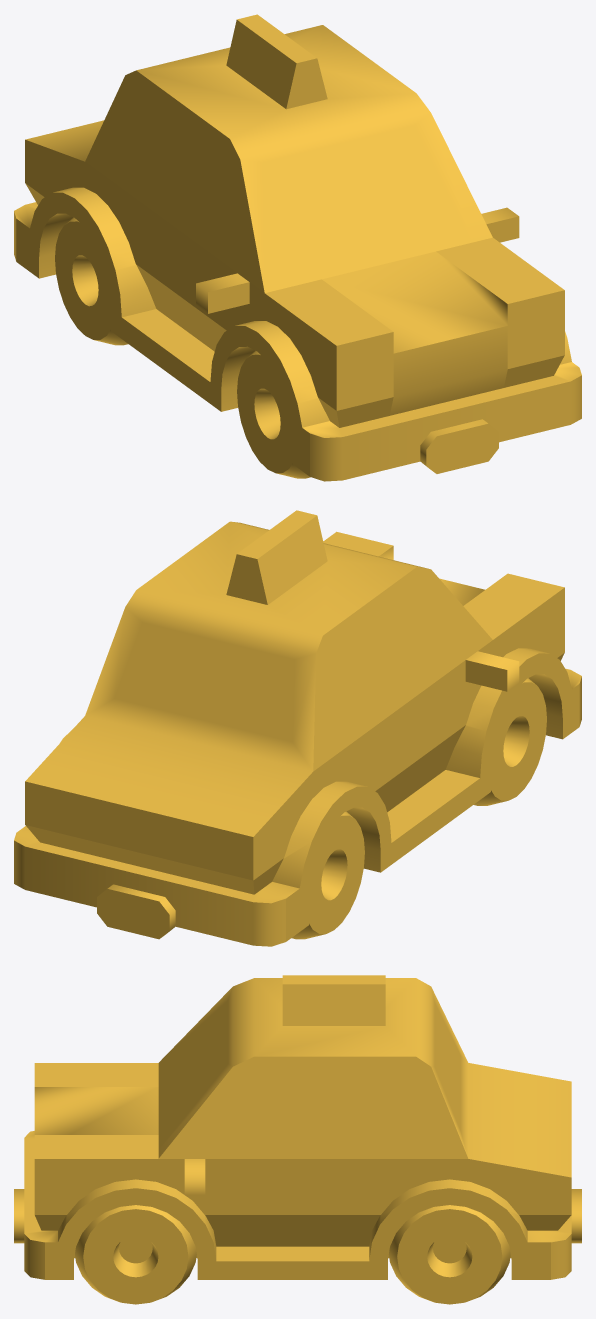
Rendered from taxi.glb.
3 renders of one model, top to bottom at view 1: azimuth 30°, elevation 25°; view 2: azimuth 150°, elevation 25°; view 3: azimuth 270°, elevation 25°, orthographic. The views are drawn at different scales.
Visible parts, largest first — view 1: body, wheel-front-right, wheel-back-right; view 2: body, wheel-back-right, wheel-front-right; view 3: body, wheel-front-left, wheel-back-left.
Part boxes in pixels (box(x1,y1,x2,y2)): body: box(14, 14, 581, 481); wheel-front-right: box(237, 350, 310, 478); wheel-back-right: box(55, 217, 128, 345); body: box(14, 510, 581, 946); wheel-back-right: box(291, 811, 364, 939); wheel-front-right: box(473, 678, 546, 805); body: box(14, 975, 581, 1279); wheel-front-left: box(75, 1205, 196, 1304); wheel-back-left: box(388, 1205, 510, 1304).
Bounding box in the file's own units: 1.5 × 1.5 × 2.75.
1 material, 1 textured.
